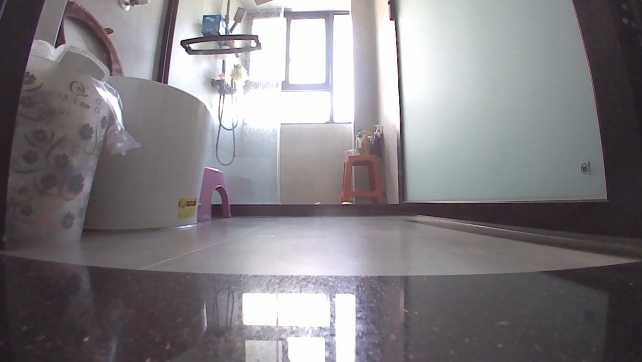door_sill: (410, 212, 641, 264)
plastic_stool: (199, 167, 242, 220), (340, 154, 386, 203)
toilet: (89, 69, 211, 231)
trash_can: (8, 53, 127, 245)
